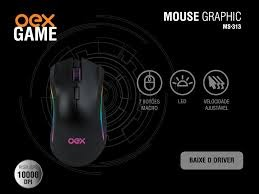mouse: (43, 55, 112, 171)
